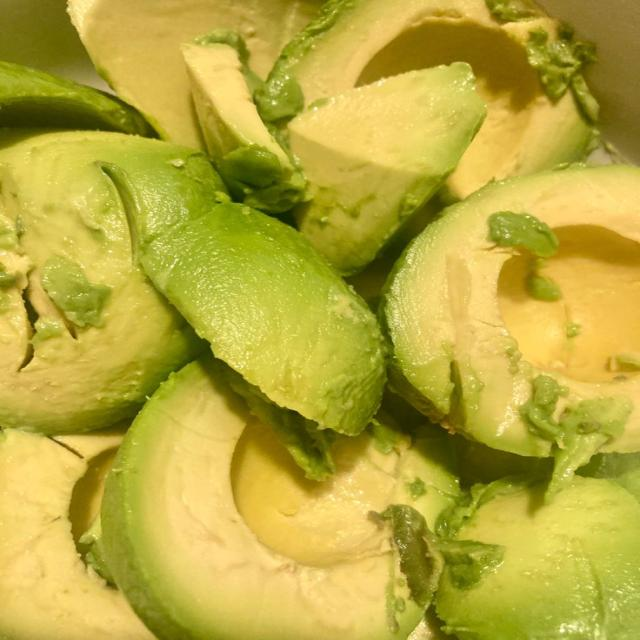avocado: (102, 361, 456, 639), (383, 166, 639, 466), (111, 168, 386, 434), (0, 130, 224, 433), (257, 0, 593, 197), (288, 63, 486, 274), (69, 0, 320, 148), (436, 477, 639, 639), (0, 430, 153, 639), (182, 32, 307, 213), (0, 62, 154, 137)
